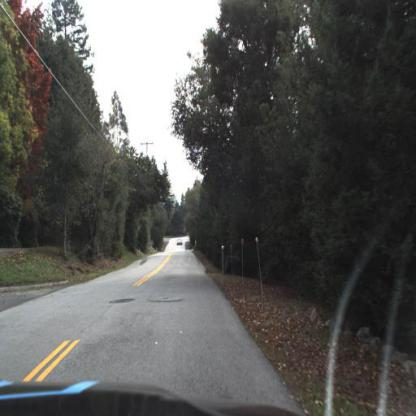car: (175, 233, 186, 252), (173, 232, 184, 250)
